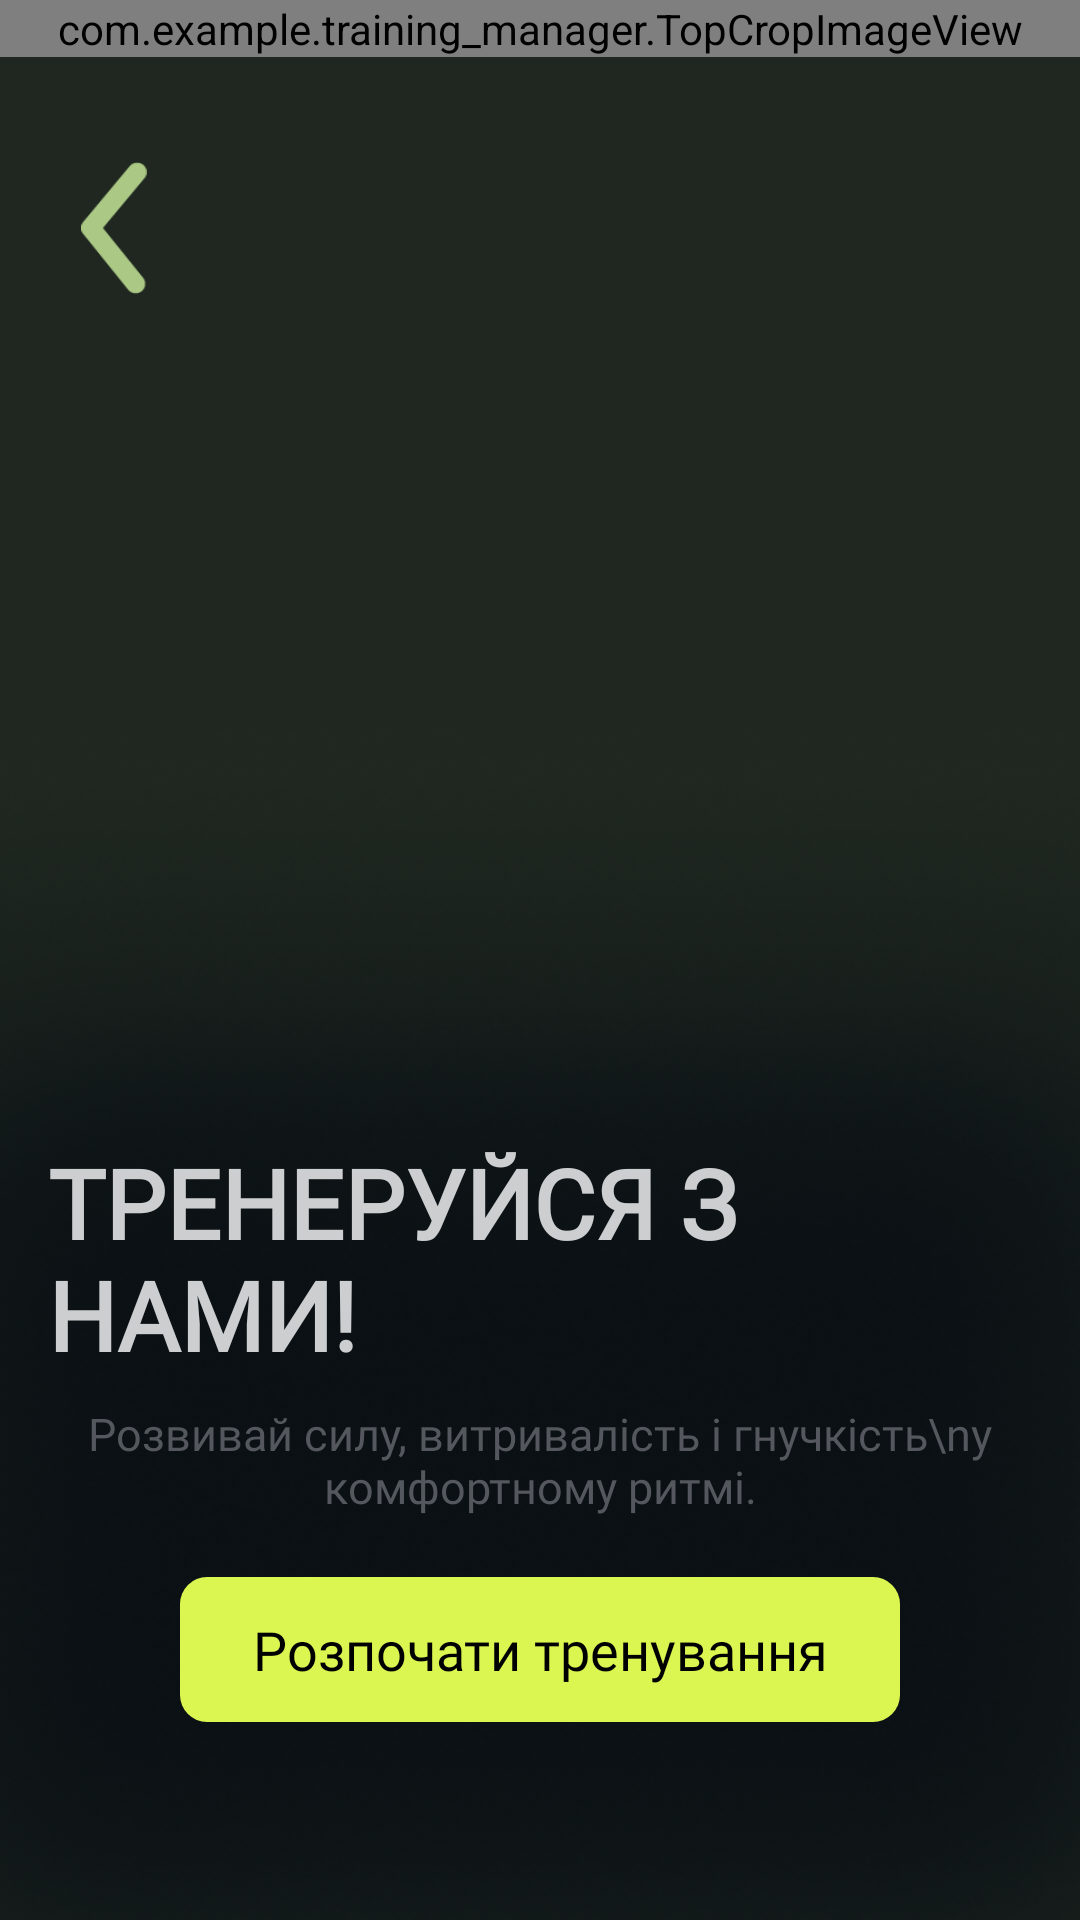

Screen size 1080px×1920px. Icon name, then its center in pixels as [x,y]:
Back: [114,228]
